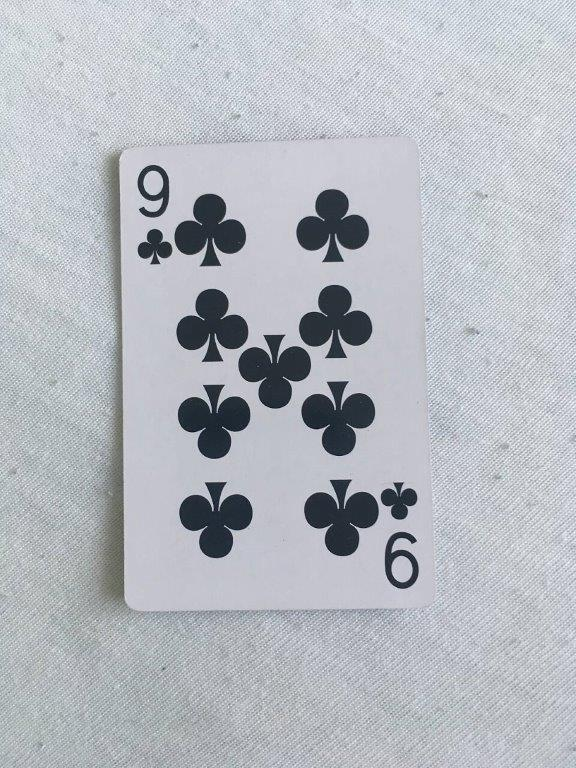9C: (115, 135, 439, 615)
